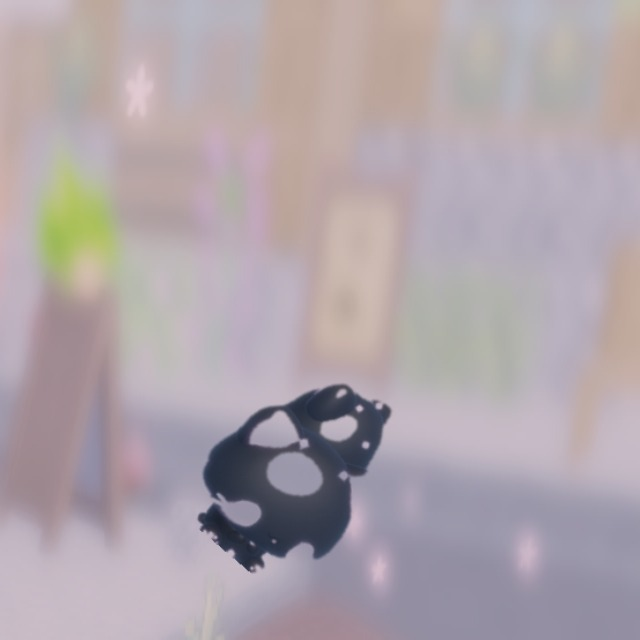urso_preto: (161, 321, 449, 614)
